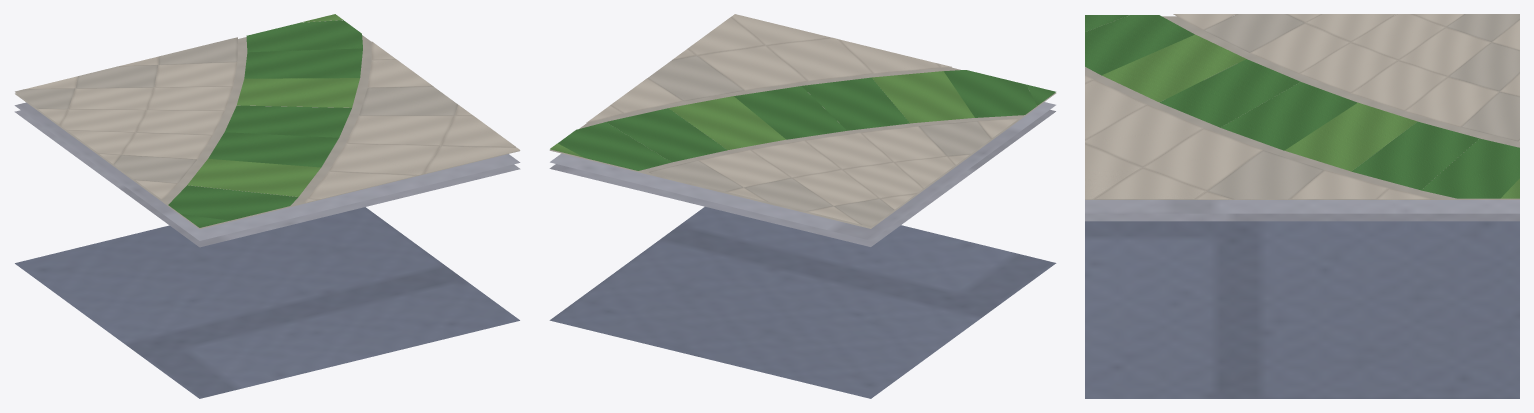
Rendered from high_crown_fracture_53.obj.
The picture shows the model from 3 angles, left to right: view 1: azimuth 30°, elevation 25°; view 2: azimuth 150°, elevation 25°; view 3: azimuth 270°, elevation 25°; orthographic projection. The views are drawn at different scales.
Visible parts, largest first — view 1: ArenaFracture53; view 2: ArenaFracture53; view 3: ArenaFracture53.
Boxes of the visible parts, x1,y1,x2,y2 form: ArenaFracture53: [14, 14, 520, 398]; ArenaFracture53: [549, 14, 1056, 398]; ArenaFracture53: [1085, 14, 1519, 398].
Size of the model in its own units: 10 by 5.11 by 10.
6 materials, 6 textured.
